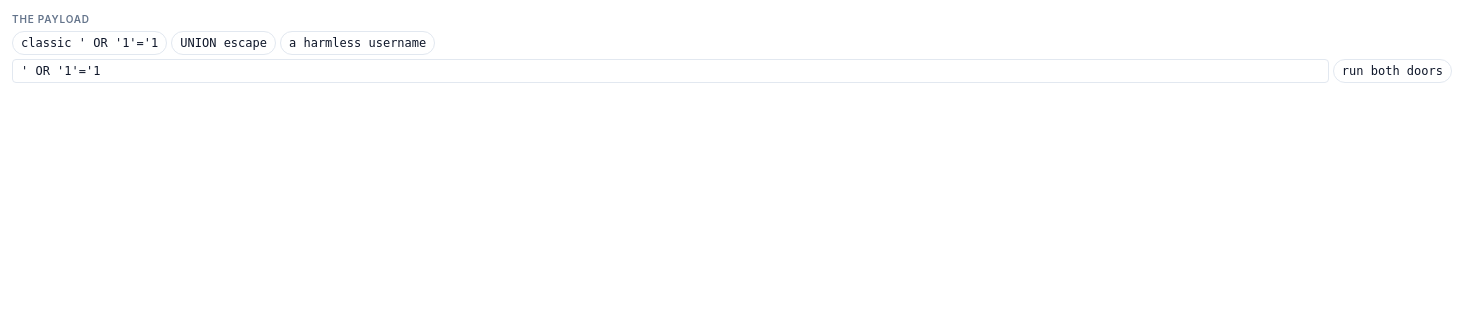
Test: SqlSafetyDemo › surfaces the containment error for the UNION escape preset
Click the button with test id "safety-preset-union": (224, 43) [171,31,276,55]
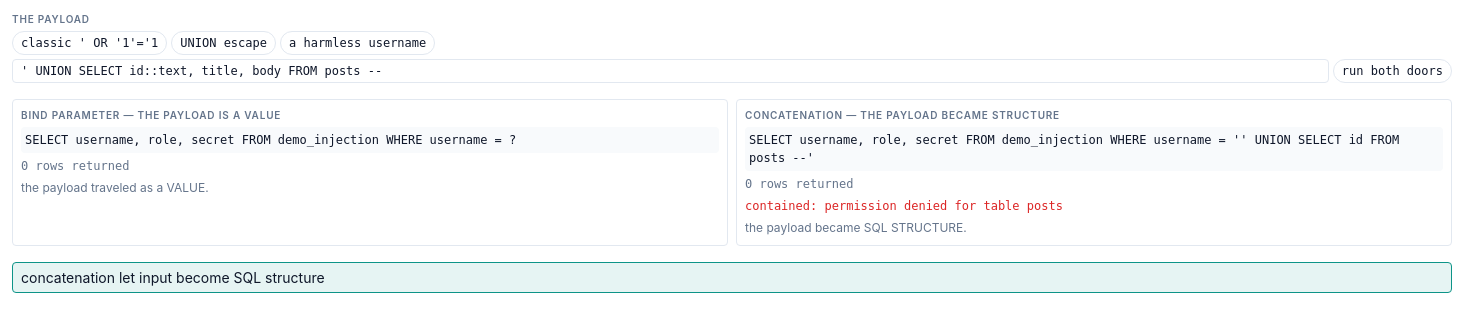
Expected: the text with test id "safety-vulnerable-contained" shows "permission denied", [824,199,1063,213]
